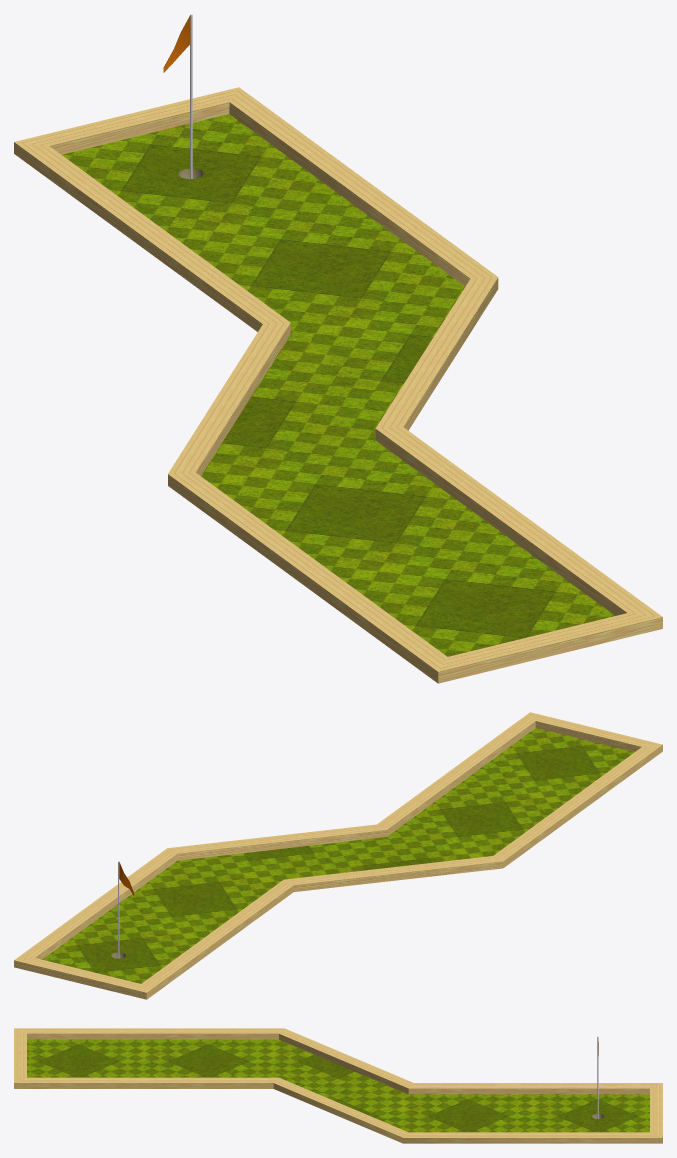
The model's file is course1_hole7.fbx.
The picture shows the model from 3 angles, top to bottom: view 1: azimuth 30°, elevation 25°; view 2: azimuth 150°, elevation 25°; view 3: azimuth 270°, elevation 25°; orthographic projection. The views are drawn at different scales.
Parts seen in each view (by area): view 1: course1_hole7_ground, course1_hole7_walls, course1_hole7_flag; view 2: course1_hole7_ground, course1_hole7_walls; view 3: course1_hole7_ground, course1_hole7_walls.
Boxes of the visible parts, x1=… form: course1_hole7_ground: x1=62, y1=114, x2=614, y2=656; course1_hole7_walls: x1=14, y1=87, x2=662, y2=683; course1_hole7_flag: x1=163, y1=14, x2=192, y2=179; course1_hole7_ground: x1=42, y1=728, x2=634, y2=983; course1_hole7_walls: x1=14, y1=712, x2=662, y2=999; course1_hole7_ground: x1=27, y1=1039, x2=649, y2=1132; course1_hole7_walls: x1=14, y1=1028, x2=662, y2=1143.
Bounding box in the file's own units: 6 × 2.25 × 15.
